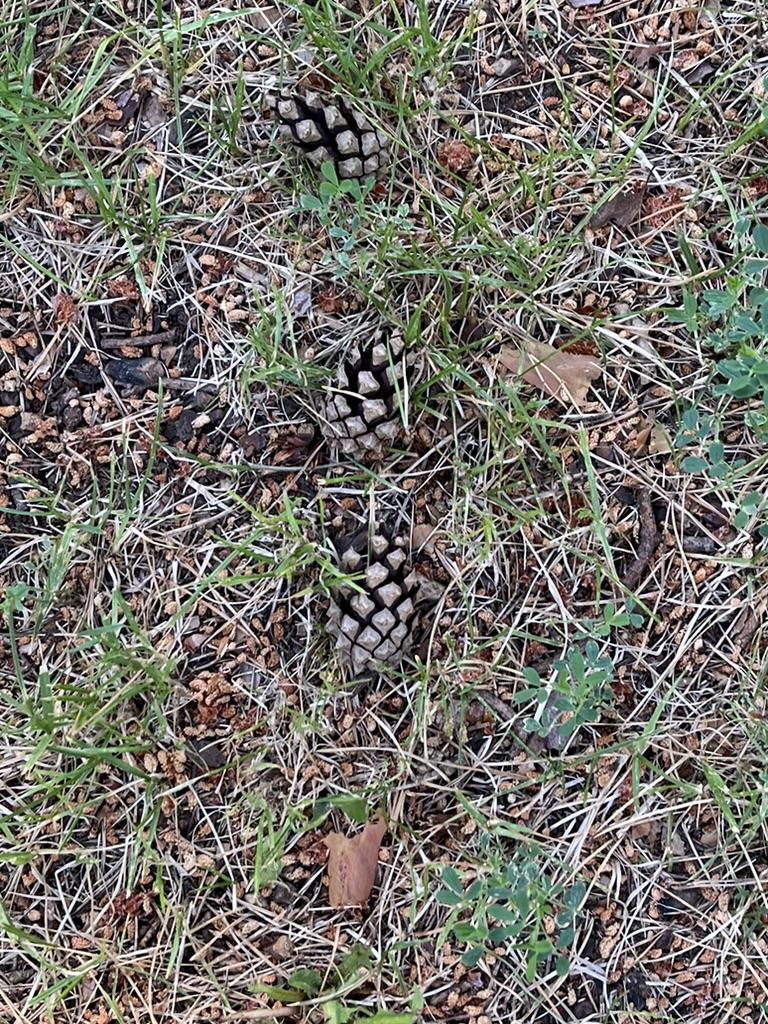pine: (316, 513, 436, 706), (296, 308, 424, 473), (261, 66, 398, 200)
